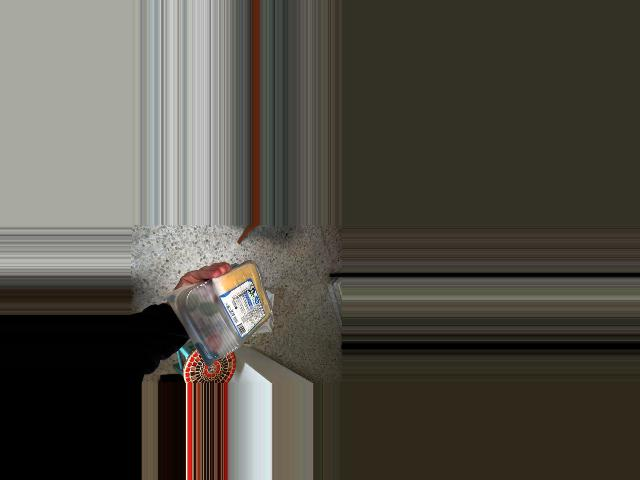cheese: (174, 274, 281, 367)
